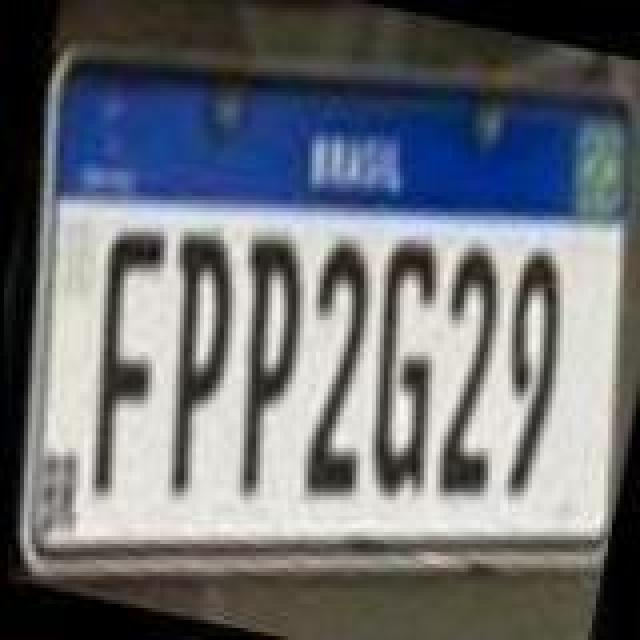2: (272, 232, 408, 504), (402, 242, 534, 510)
9: (464, 248, 584, 504)
F: (50, 214, 182, 506)
G: (334, 230, 474, 506)
P: (120, 222, 256, 498), (196, 232, 324, 504)
